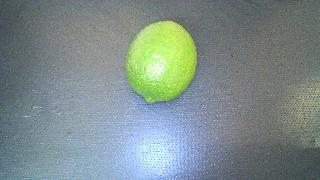EXPORTACION: (125, 21, 197, 103)
